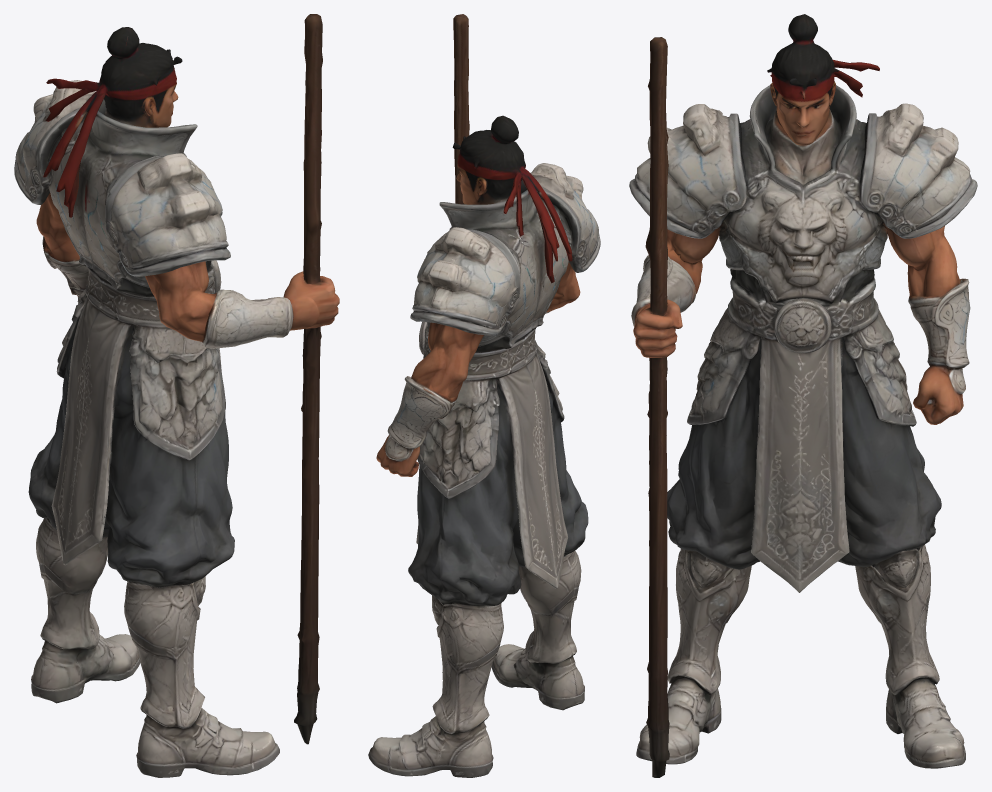
File: vanguard2_T8-tripo.glb
3 renders of one model, left to right at view 1: azimuth 30°, elevation 25°; view 2: azimuth 150°, elevation 25°; view 3: azimuth 270°, elevation 25°, orthographic. The views are drawn at different scales.
Visible parts, largest first — view 1: tripo_node_743c3dfc-c3a0-437c-9bcf-4244c41c1c6d; view 2: tripo_node_743c3dfc-c3a0-437c-9bcf-4244c41c1c6d; view 3: tripo_node_743c3dfc-c3a0-437c-9bcf-4244c41c1c6d.
Part boxes in pixels (bbox=[...]): tripo_node_743c3dfc-c3a0-437c-9bcf-4244c41c1c6d: bbox=[14, 14, 339, 777]; tripo_node_743c3dfc-c3a0-437c-9bcf-4244c41c1c6d: bbox=[368, 14, 600, 777]; tripo_node_743c3dfc-c3a0-437c-9bcf-4244c41c1c6d: bbox=[629, 14, 977, 777].
Bounding box in the file's own units: 0.2973 × 1 × 0.4177.
1 material, 1 textured.
